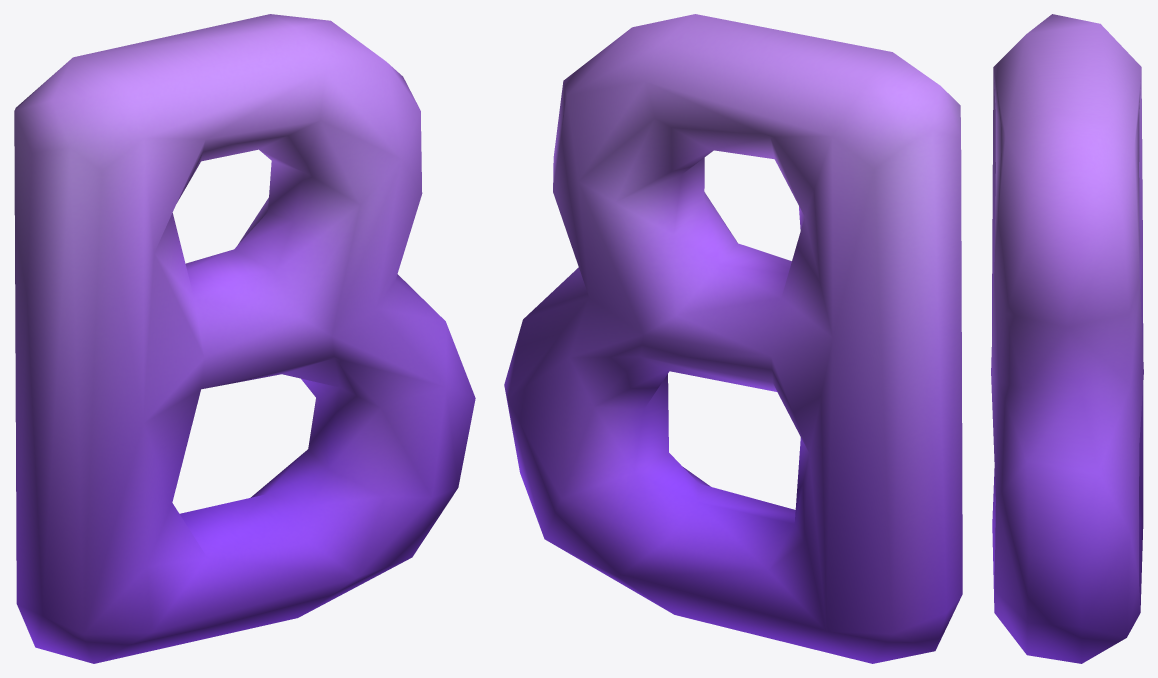
3 views of the same model, side by side, from view 1: azimuth 30°, elevation 25°; view 2: azimuth 150°, elevation 25°; view 3: azimuth 270°, elevation 25° (orthographic). The views are drawn at different scales.
Visible parts, largest first — view 1: Processed_Mesh0_Geometry; view 2: Processed_Mesh0_Geometry; view 3: Processed_Mesh0_Geometry.
Boxes of the visible parts, x1,y1,x2,y2 form: Processed_Mesh0_Geometry: [14, 14, 475, 663]; Processed_Mesh0_Geometry: [504, 14, 962, 663]; Processed_Mesh0_Geometry: [991, 14, 1143, 663].
Size of what is drawn, in the model's own units: 0.0642 by 0.0815 by 0.0211.
1 material, 1 textured.
